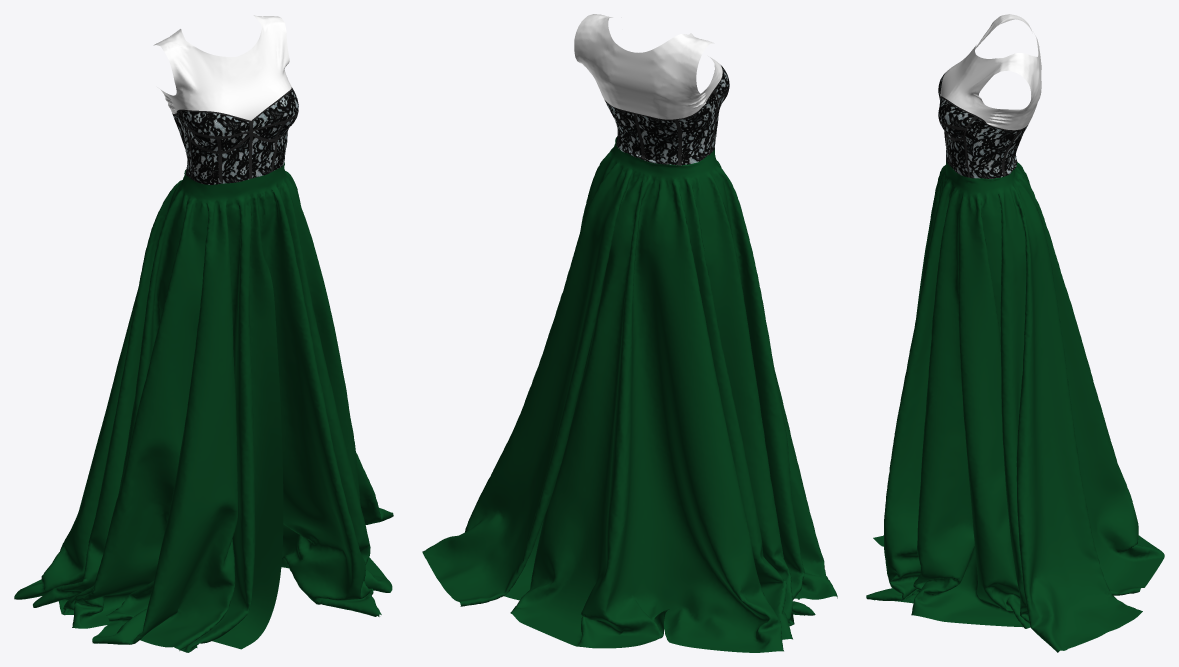
Rendered from emerald-lace-gown.glb.
3 renders of one model, left to right at view 1: azimuth 30°, elevation 25°; view 2: azimuth 150°, elevation 25°; view 3: azimuth 270°, elevation 25°, orthographic. The views are drawn at different scales.
Parts seen in each view (by area): view 1: Pattern2D_86635, Pattern2D_377629, Pattern2D_6614, Pattern2D_5076, Pattern2D_5064, Pattern2D_5059, Pattern2D_5058_5, Pattern2D_5066, Pattern2D_377628; view 2: Pattern2D_86635, Pattern2D_377628, Pattern2D_5085, Pattern2D_6615, Pattern2D_5073, Pattern2D_5083; view 3: Pattern2D_86635, Pattern2D_377629, Pattern2D_377628, Pattern2D_5082, Pattern2D_5058_5, Pattern2D_6615, Pattern2D_5056_1, Pattern2D_6614, Pattern2D_5058_7.
Boxes of the visible parts, left/top/right/bottom form: Pattern2D_86635: left=14, top=171, right=393, bottom=652; Pattern2D_377629: left=162, top=21, right=291, bottom=120; Pattern2D_6614: left=184, top=162, right=286, bottom=201; Pattern2D_5076: left=181, top=111, right=249, bottom=136; Pattern2D_5064: left=221, top=137, right=249, bottom=183; Pattern2D_5059: left=191, top=142, right=222, bottom=184; Pattern2D_5058_5: left=253, top=88, right=298, bottom=129; Pattern2D_5066: left=252, top=136, right=274, bottom=177; Pattern2D_377628: left=153, top=15, right=283, bottom=113; Pattern2D_86635: left=422, top=147, right=837, bottom=652; Pattern2D_377628: left=574, top=14, right=710, bottom=119; Pattern2D_5085: left=636, top=114, right=678, bottom=165; Pattern2D_6615: left=611, top=136, right=711, bottom=179; Pattern2D_5073: left=678, top=102, right=711, bottom=165; Pattern2D_5083: left=606, top=102, right=642, bottom=159; Pattern2D_86635: left=866, top=162, right=1164, bottom=652; Pattern2D_377629: left=940, top=14, right=1005, bottom=122; Pattern2D_377628: left=987, top=14, right=1041, bottom=130; Pattern2D_5082: left=972, top=124, right=1019, bottom=178; Pattern2D_5058_5: left=938, top=97, right=973, bottom=127; Pattern2D_6615: left=974, top=167, right=1017, bottom=193; Pattern2D_5056_1: left=947, top=137, right=968, bottom=177; Pattern2D_6614: left=944, top=161, right=976, bottom=193; Pattern2D_5058_7: left=965, top=118, right=984, bottom=178.
Size of the model in its own units: 105 by 151 by 77.58.
4 materials, 2 textured.
